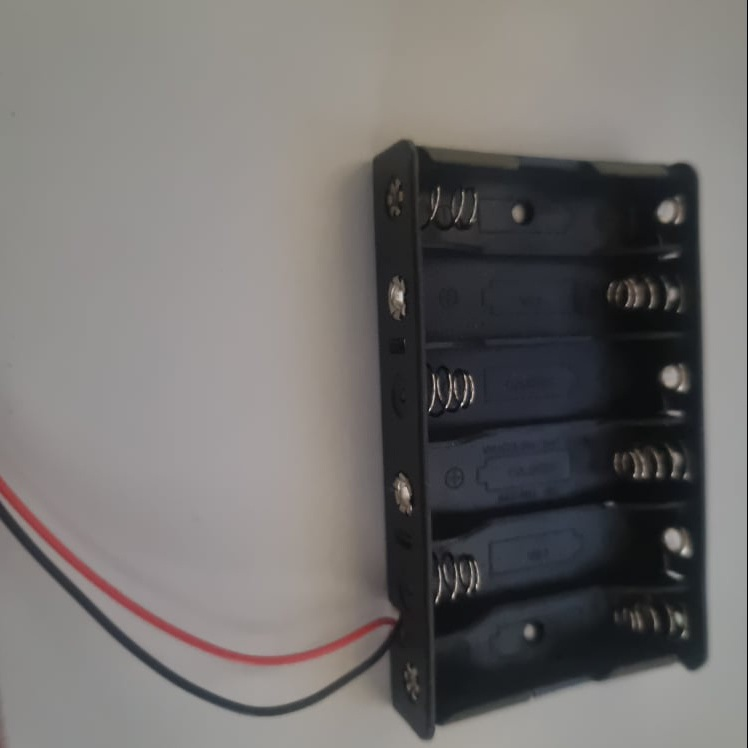BATTERY BOX: (372, 136, 713, 740)
